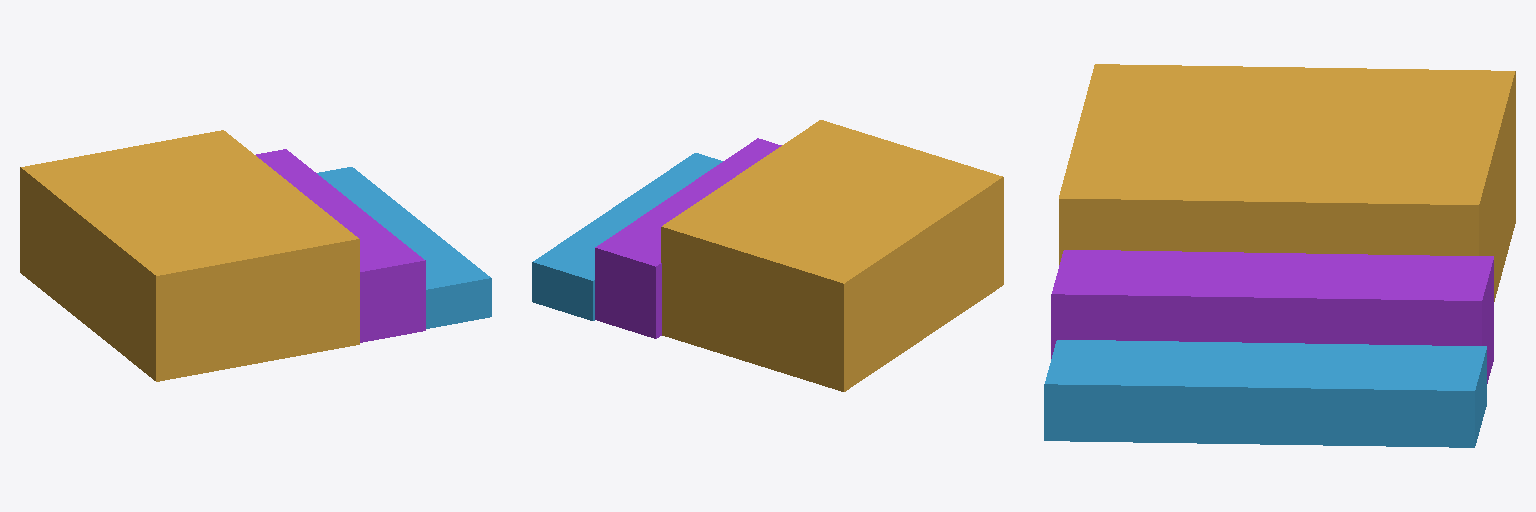
URDF robot description (multi_boxes):
<?xml version="1.0"?>
<robot name="multi_boxes">
  <link name="world"/>

  <link name="multi_boxes_box1_link">
    <visual>
      <origin rpy="0 0 0" xyz="0 0 0"/>
      <geometry>
        <mesh filename="box_models/box1.obj" scale="1 1 1"/>
      </geometry>
      <material name="box1_material">
        <color rgba="0.3 0.7 0.9 0.5"/>
      </material>
    </visual>
    <collision>
      <origin rpy="0 0 0" xyz="0 0 0"/>
      <geometry>
        <mesh filename="box_models/box1.obj" scale="1 1 1"/>
      </geometry>
    </collision>
    <inertial>
      <mass value="33.33"/>
      <origin rpy="0 0 0" xyz="0 0 0"/>
      <inertia ixx="10.0" ixy="0.0" ixz="0.0" iyy="10.0" iyz="0.0" izz="10.0"/>
    </inertial>
  </link>

  <joint name="world_to_box1" type="fixed">
    <parent link="world"/>
    <child link="multi_boxes_box1_link"/>
    <origin rpy="0 0 0" xyz="0 0 0"/>
  </joint>

  <link name="multi_boxes_box2_link">
    <visual>
      <origin rpy="0 0 0" xyz="0 0 0"/>
      <geometry>
        <mesh filename="box_models/box2.obj" scale="1 1 1"/>
      </geometry>
      <material name="box2_material">
        <color rgba="0.7 0.3 0.9 0.5"/>
      </material>
    </visual>
    <collision>
      <origin rpy="0 0 0" xyz="0 0 0"/>
      <geometry>
        <mesh filename="box_models/box2.obj" scale="1 1 1"/>
      </geometry>
    </collision>
    <inertial>
      <mass value="33.33"/>
      <origin rpy="0 0 0" xyz="0 0 0"/>
      <inertia ixx="10.0" ixy="0.0" ixz="0.0" iyy="10.0" iyz="0.0" izz="10.0"/>
    </inertial>
  </link>

  <joint name="world_to_box2" type="fixed">
    <parent link="world"/>
    <child link="multi_boxes_box2_link"/>
    <origin rpy="0 0 0" xyz="0 0 0"/>
  </joint>

  <link name="multi_boxes_box3_link">
    <visual>
      <origin rpy="0 0 0" xyz="0 0 0"/>
      <geometry>
        <mesh filename="box_models/box3.obj" scale="1 1 1"/>
      </geometry>
      <material name="box3_material">
        <color rgba="0.9 0.7 0.3 0.5"/>
      </material>
    </visual>
    <collision>
      <origin rpy="0 0 0" xyz="0 0 0"/>
      <geometry>
        <mesh filename="box_models/box3.obj" scale="1 1 1"/>
      </geometry>
    </collision>
    <inertial>
      <mass value="33.33"/>
      <origin rpy="0 0 0" xyz="0 0 0"/>
      <inertia ixx="10.0" ixy="0.0" ixz="0.0" iyy="10.0" iyz="0.0" izz="10.0"/>
    </inertial>
  </link>

  <joint name="world_to_box3" type="fixed">
    <parent link="world"/>
    <child link="multi_boxes_box3_link"/>
    <origin rpy="0 0 0" xyz="0 0 0"/>
  </joint>

</robot>

--- Render facts (derived) ---
3 views of the same robot in one strip: view 1: azimuth 30°, elevation 25°; view 2: azimuth 150°, elevation 25°; view 3: azimuth 270°, elevation 25° (orthographic).
Robot: multi_boxes — 4 links, 3 joints (3 fixed); root link world; default pose: every joint at zero.
Visible links, largest first — view 1: multi_boxes_box3_link, multi_boxes_box2_link, multi_boxes_box1_link; view 2: multi_boxes_box3_link, multi_boxes_box2_link, multi_boxes_box1_link; view 3: multi_boxes_box3_link, multi_boxes_box1_link, multi_boxes_box2_link.
Boxes of the visible links, <box> form: multi_boxes_box3_link: <box>20,130,359,381</box>; multi_boxes_box2_link: <box>256,149,425,342</box>; multi_boxes_box1_link: <box>317,167,491,328</box>; multi_boxes_box3_link: <box>661,120,1003,391</box>; multi_boxes_box2_link: <box>595,138,781,338</box>; multi_boxes_box1_link: <box>532,153,722,320</box>; multi_boxes_box3_link: <box>1059,64,1515,301</box>; multi_boxes_box1_link: <box>1044,340,1486,447</box>; multi_boxes_box2_link: <box>1051,250,1493,383</box>.
Size in the robot's own frame: 1.7 by 1.47 by 0.5267 metres.
Meshes: 3 distinct files referenced, 3 mesh visuals loaded (3 OBJ).
